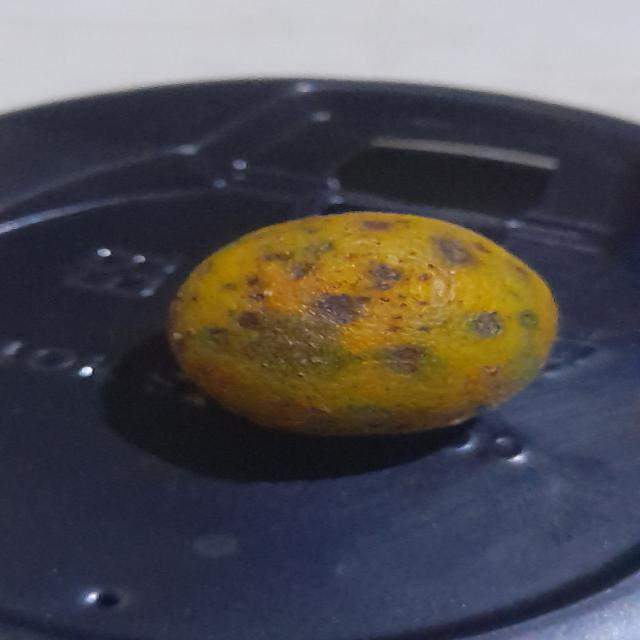black spot: (164, 207, 559, 438)
